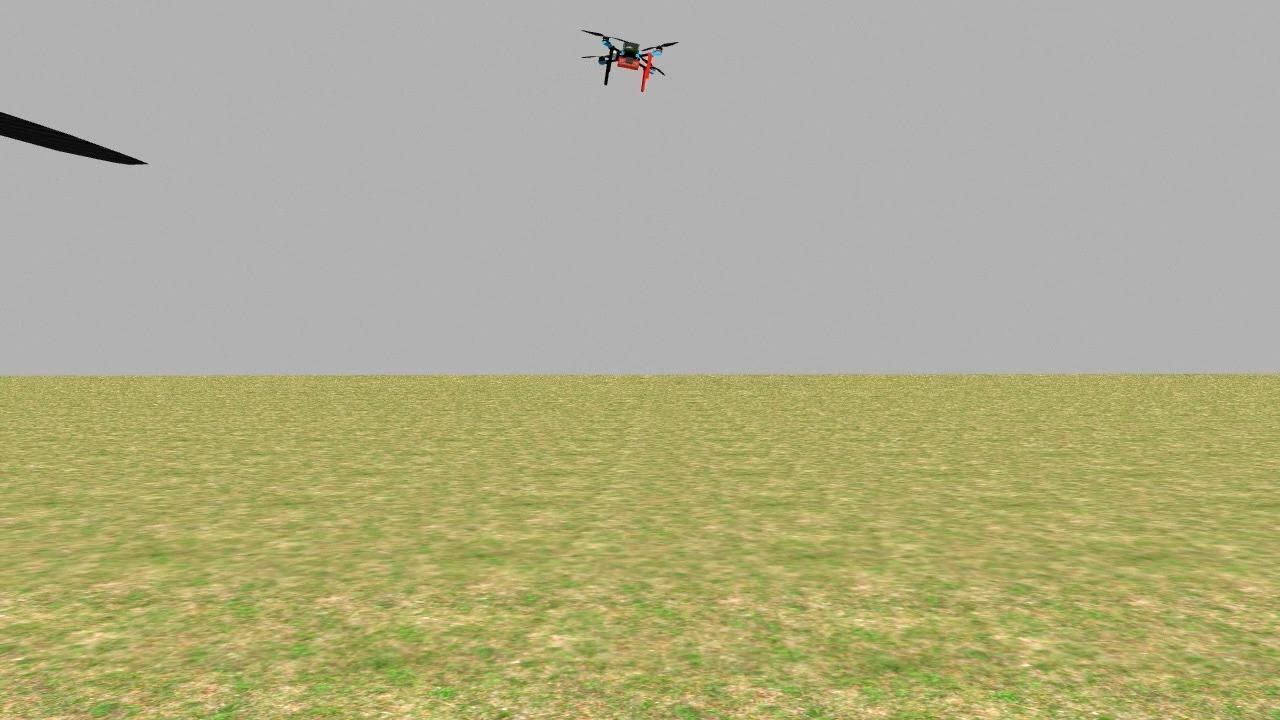UAV: (578, 27, 684, 96)
